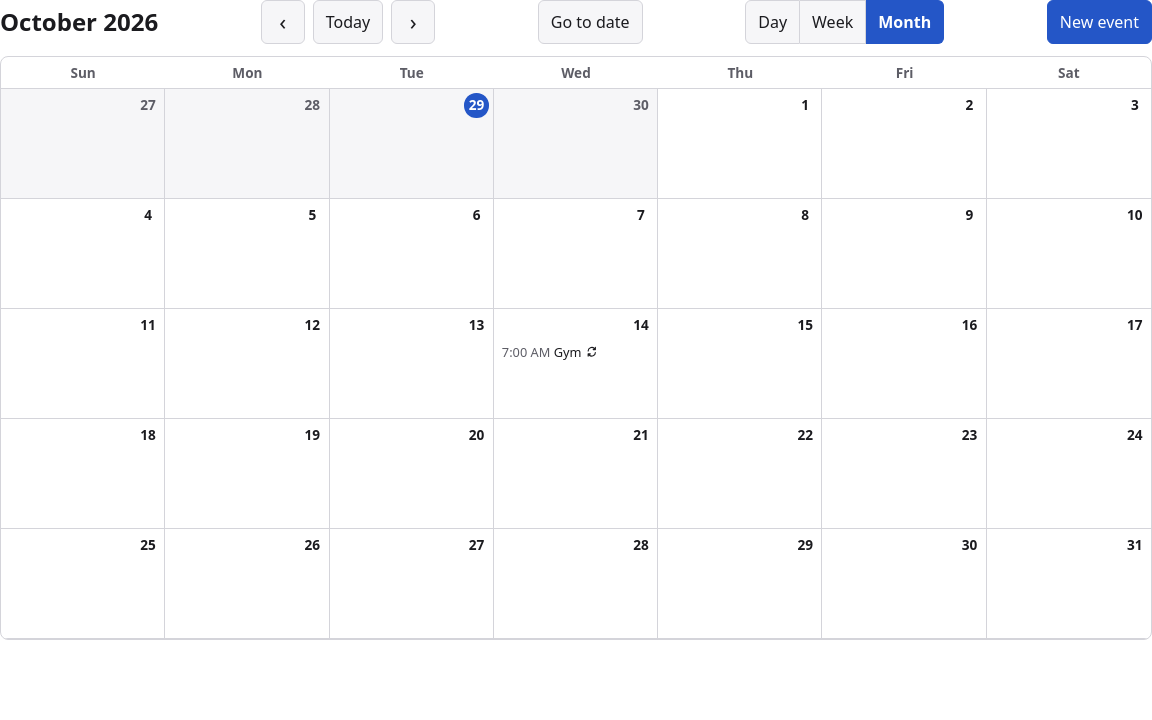
Test case: Deleting an occurrence of a series (003 US4) › This event deletes with that scope and announces it
Click the button with aria-label "Gym,": click(575, 352) [498,342,653,362]
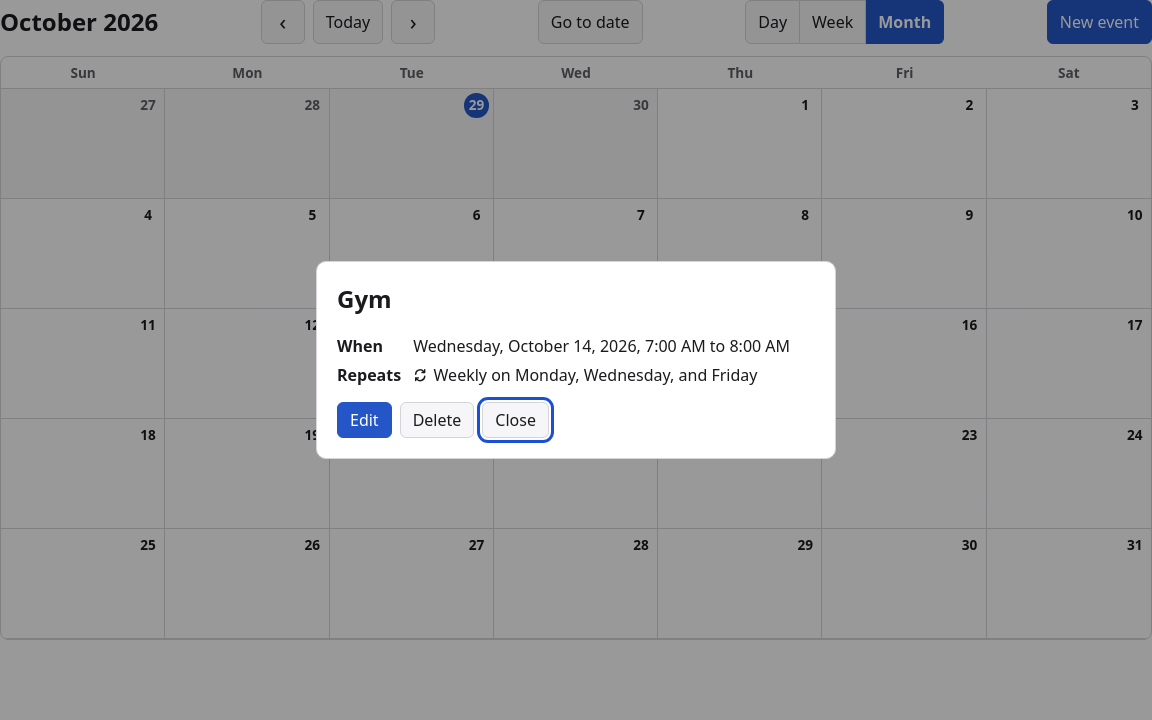
Click the button "Delete": click(437, 420) [400,402,474,438]
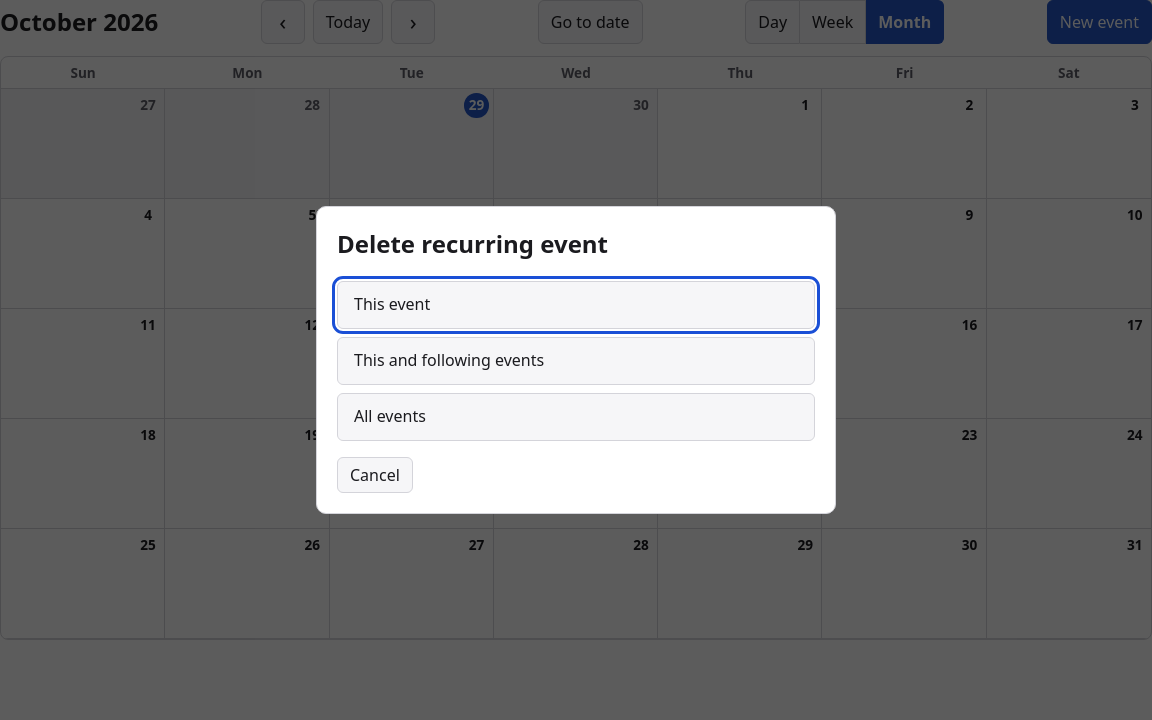
Click the button "This event": click(392, 304) [337,280,815,328]
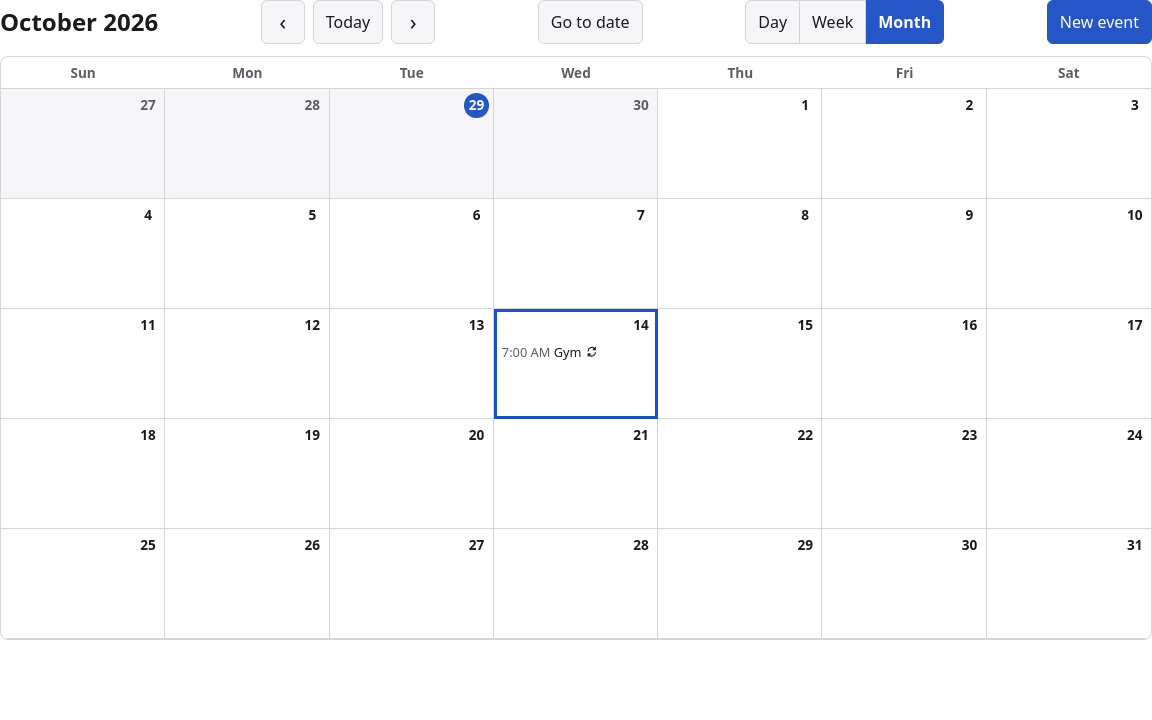
Expected: the dialog is gone
